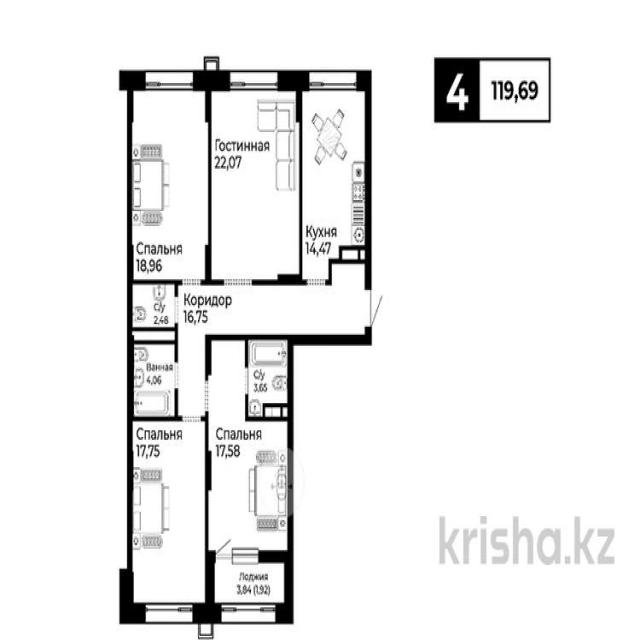balcony: (210, 558, 290, 618)
bathroom: (127, 339, 177, 422), (247, 338, 293, 420), (131, 281, 176, 331)
hallway: (178, 283, 370, 335), (176, 339, 248, 413)
kitchen: (300, 79, 368, 281)
living_room: (212, 78, 299, 281), (131, 82, 210, 282), (126, 420, 206, 617), (212, 419, 291, 558)
